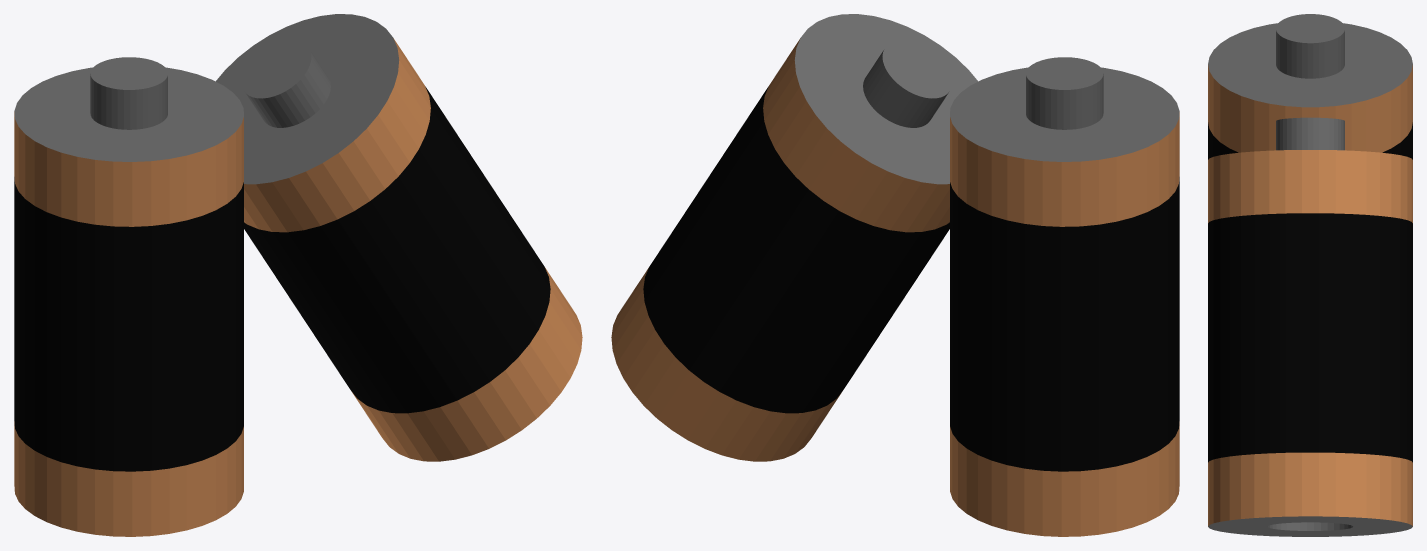
Rendered from Batteries.fbx.
3 renders of one model, left to right at view 1: azimuth 30°, elevation 25°; view 2: azimuth 150°, elevation 25°; view 3: azimuth 270°, elevation 25°, orthographic. The views are drawn at different scales.
Parts seen in each view (by area): view 1: Cylinder, Cylinder.001; view 2: Cylinder, Cylinder.001; view 3: Cylinder.001, Cylinder.
Boxes of the visible parts, x1=… form: Cylinder: x1=14, y1=57, x2=243, y2=536; Cylinder.001: x1=216, y1=14, x2=582, y2=461; Cylinder: x1=950, y1=57, x2=1179, y2=536; Cylinder.001: x1=611, y1=14, x2=977, y2=461; Cylinder.001: x1=1208, y1=117, x2=1412, y2=536; Cylinder: x1=1208, y1=14, x2=1412, y2=159.
Bounding box in the file's own units: 70.85 × 55.9 × 26.4.
